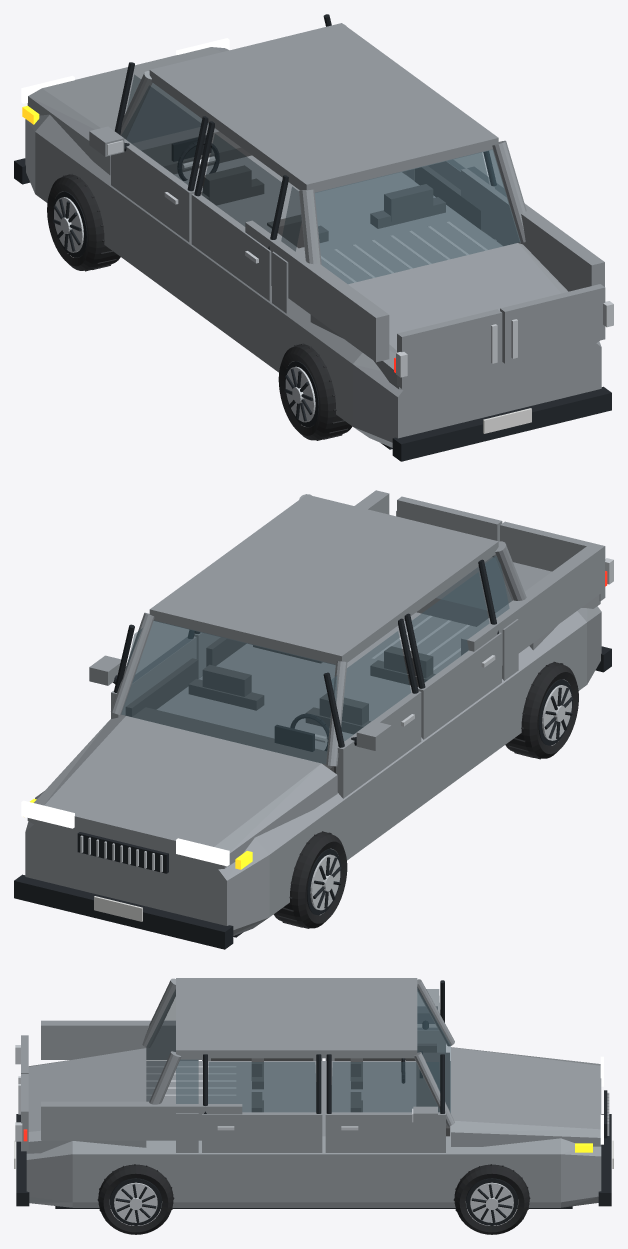
Rendered from pickup.glb.
The picture shows the model from 3 angles, top to bottom: view 1: azimuth 30°, elevation 25°; view 2: azimuth 150°, elevation 25°; view 3: azimuth 270°, elevation 25°; orthographic projection. The views are drawn at different scales.
Visible parts, largest first — view 1: Body, Door_FL, Door_RL, Door_Rear_R, Door_Rear_L, Wheel_RL, Wheel_FL, Door_RR; view 2: Body, Door_FL, Door_RL, Door_FR, Wheel_FL, Wheel_RL, Door_Rear_L, Door_Rear_R, Door_RR; view 3: Body, Door_FR, Door_RR, Wheel_FR, Wheel_RR, Door_FL, Door_Rear_R, Door_Rear_L.
Boxes of the visible parts, bbox=[...] form: Body: bbox=[14, 23, 611, 461]; Door_FL: bbox=[89, 62, 208, 242]; Door_RL: bbox=[191, 121, 288, 301]; Door_Rear_R: bbox=[500, 284, 613, 363]; Door_Rear_L: bbox=[396, 309, 502, 388]; Wheel_RL: bbox=[278, 343, 352, 440]; Wheel_FL: bbox=[47, 173, 120, 271]; Door_RR: bbox=[414, 151, 496, 240]; Body: bbox=[14, 490, 611, 949]; Door_FL: bbox=[323, 618, 421, 798]; Door_RL: bbox=[404, 559, 501, 739]; Door_FR: bbox=[89, 621, 198, 718]; Wheel_FL: bbox=[273, 831, 347, 928]; Wheel_RL: bbox=[505, 661, 578, 759]; Door_Rear_L: bbox=[500, 521, 613, 601]; Door_Rear_R: bbox=[396, 496, 502, 557]; Door_RR: bbox=[194, 631, 246, 678]; Body: bbox=[14, 978, 613, 1208]; Door_FR: bbox=[325, 1054, 445, 1152]; Door_RR: bbox=[202, 1054, 322, 1152]; Wheel_FR: bbox=[453, 1164, 530, 1234]; Wheel_RR: bbox=[97, 1164, 174, 1234]; Door_FL: bbox=[325, 980, 445, 1060]; Door_Rear_R: bbox=[15, 1074, 28, 1151]; Door_Rear_L: bbox=[15, 1035, 28, 1083].
Size of what is drawn, in the model's own units: 2.57 by 1.95 by 6.06.
